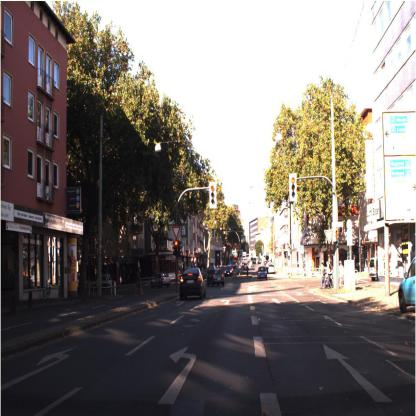other: (322, 225, 337, 247), (171, 224, 181, 241)
